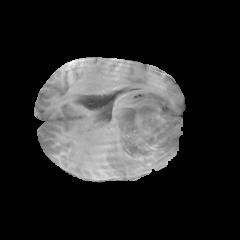glioma: (109, 92, 182, 179)
